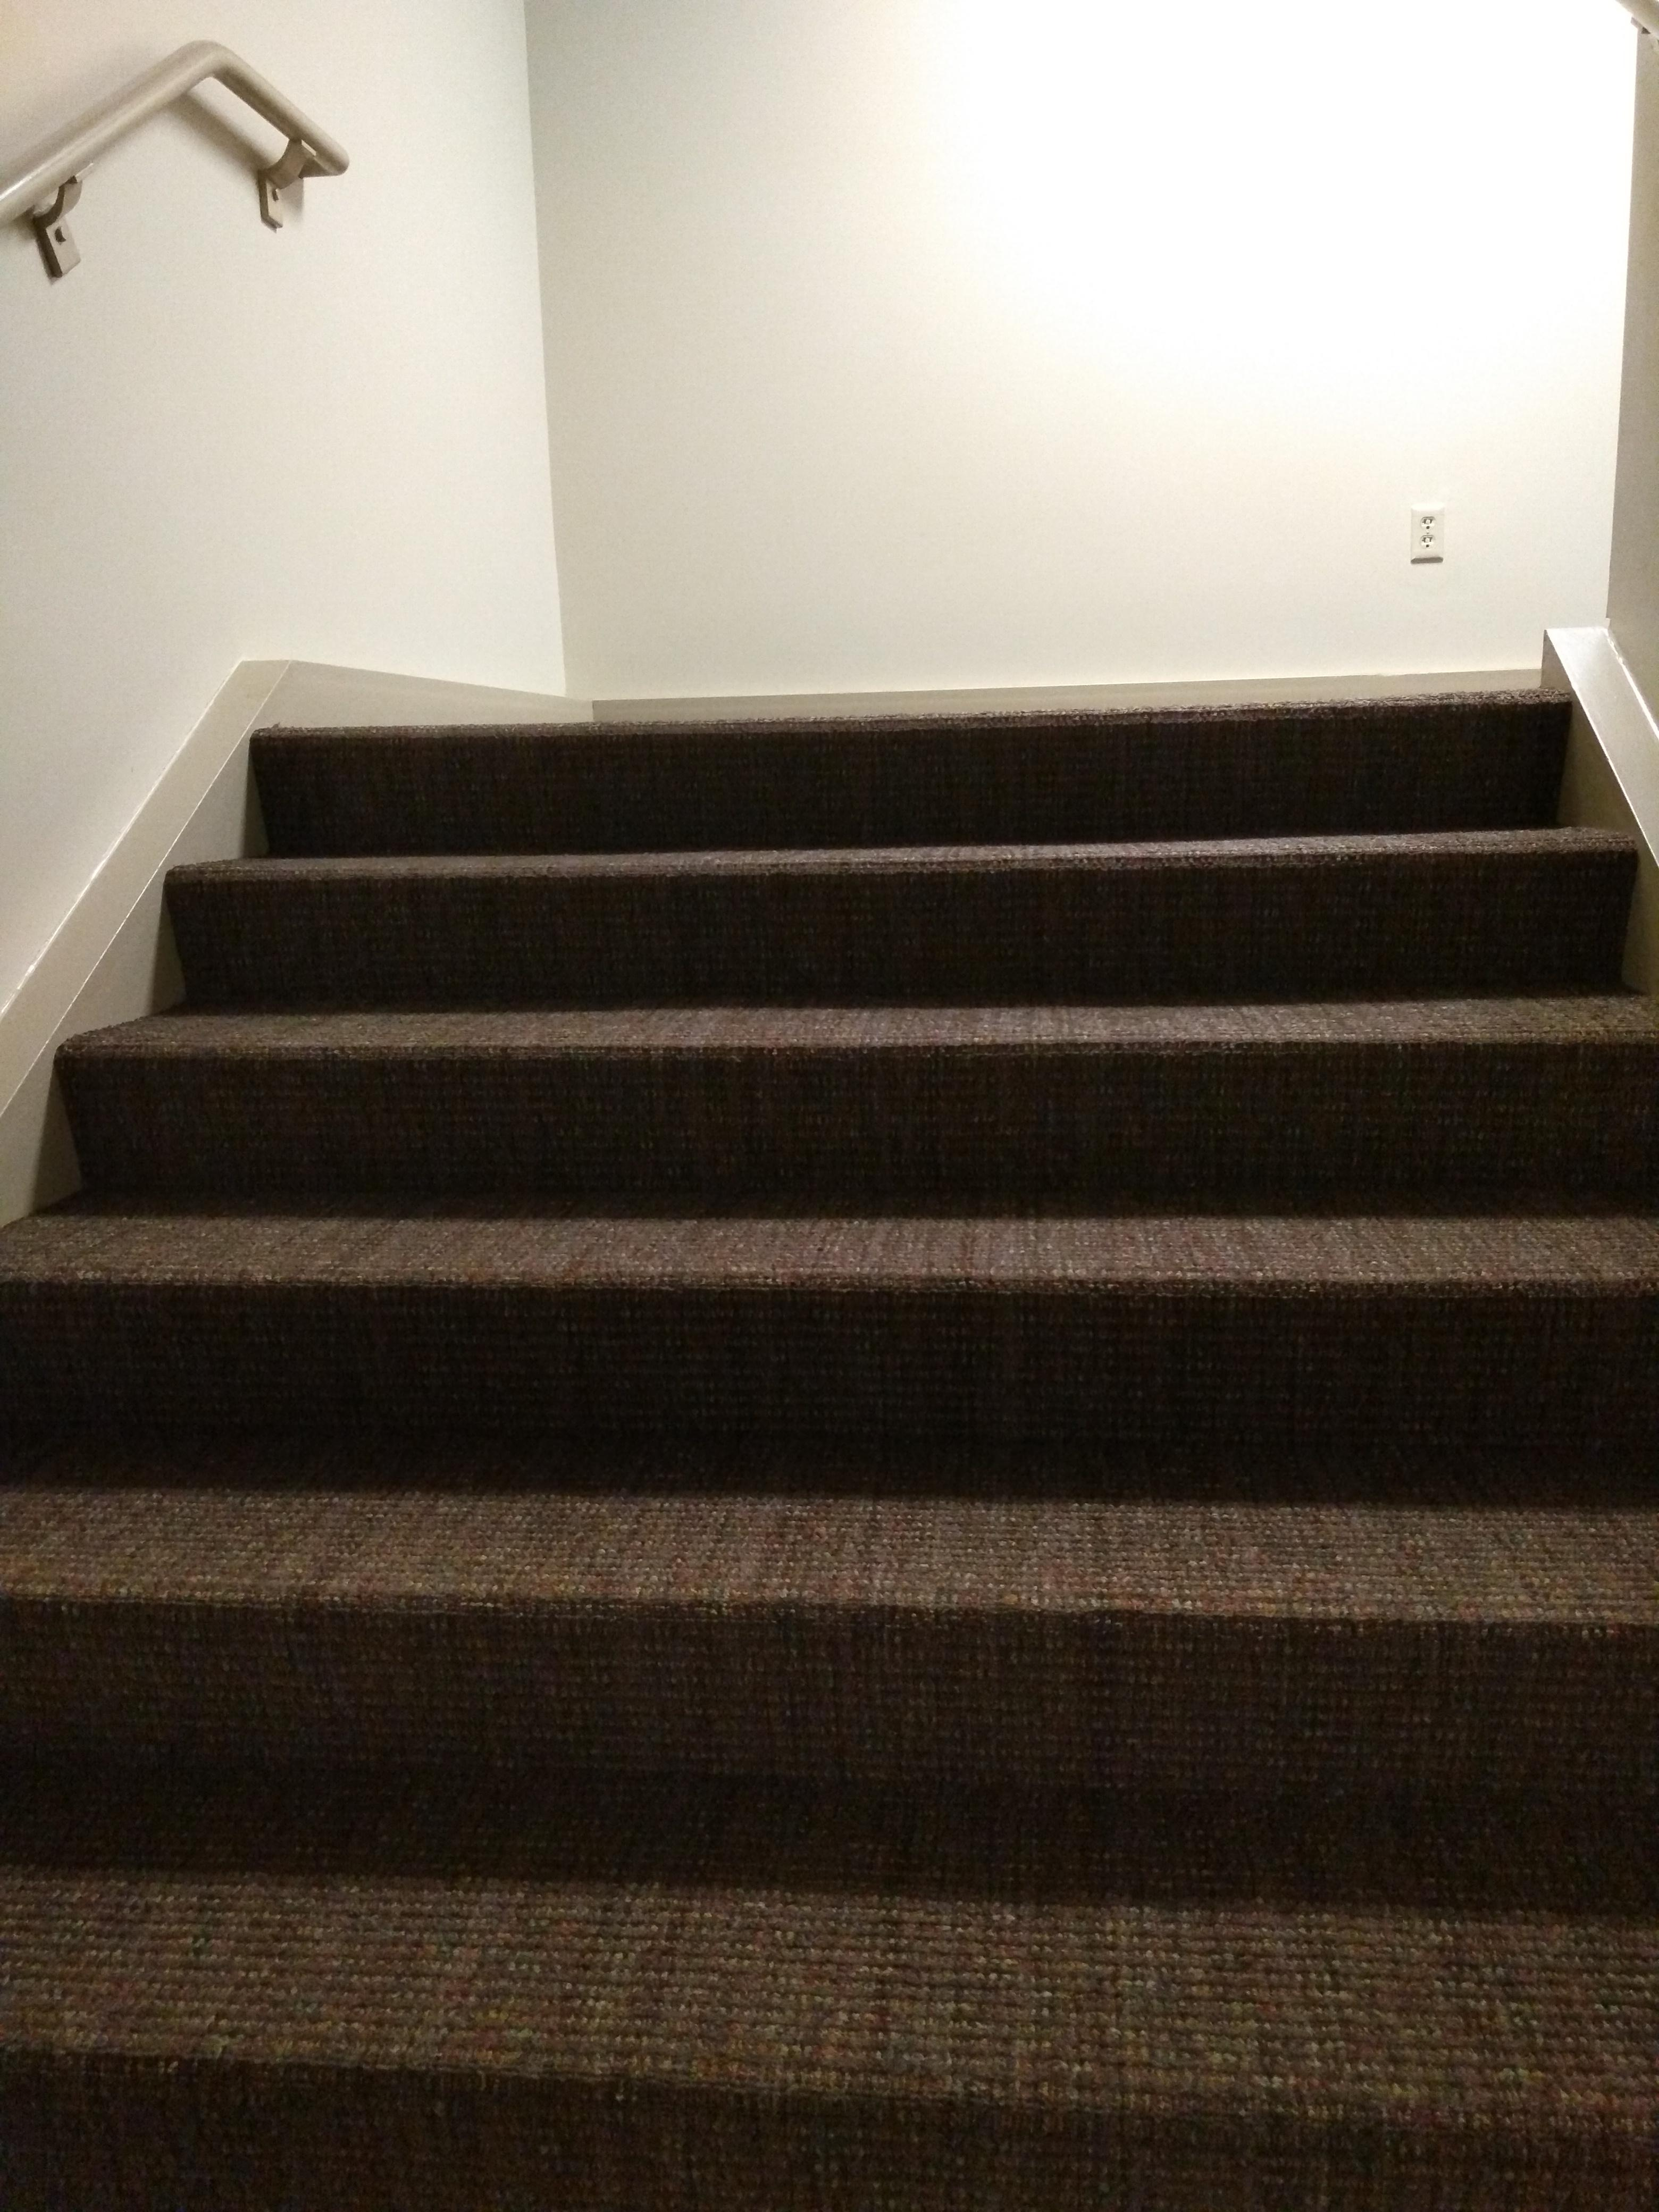stairs_up: (49, 617, 1598, 2090)
